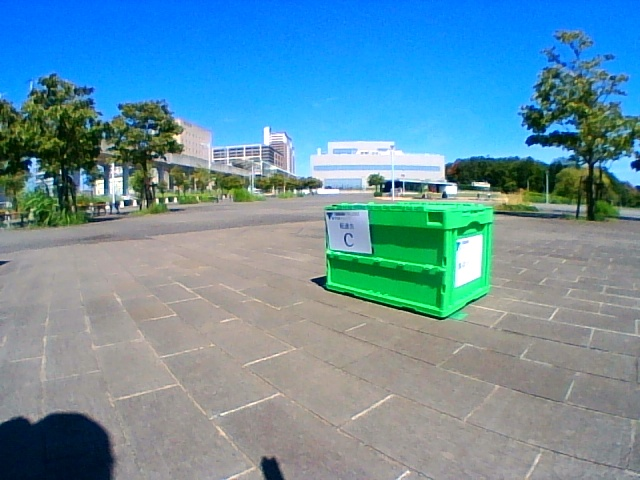green_box: (323, 203, 494, 317)
tag_c: (330, 211, 368, 250)
